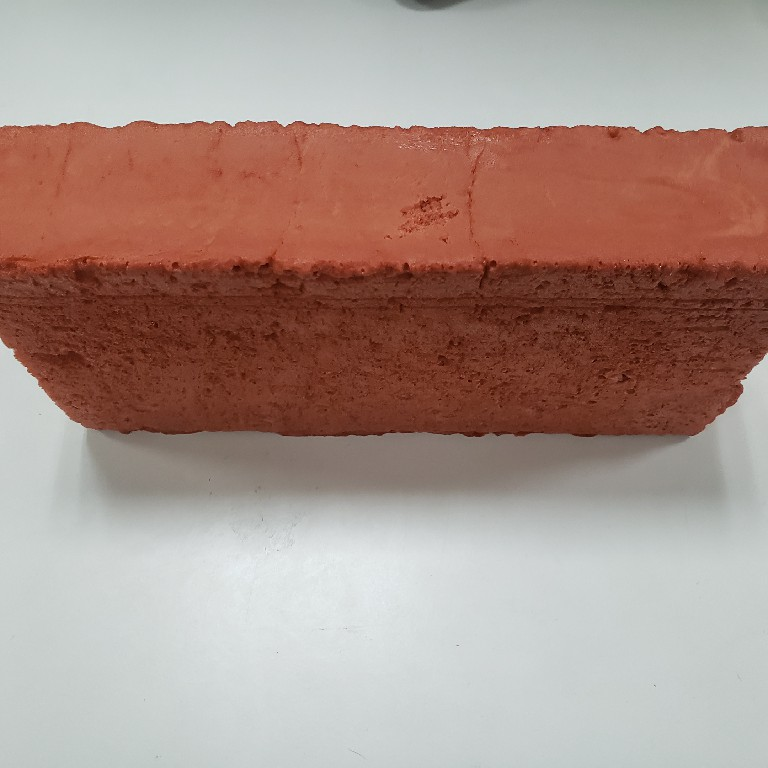brick: (1, 114, 768, 452)
